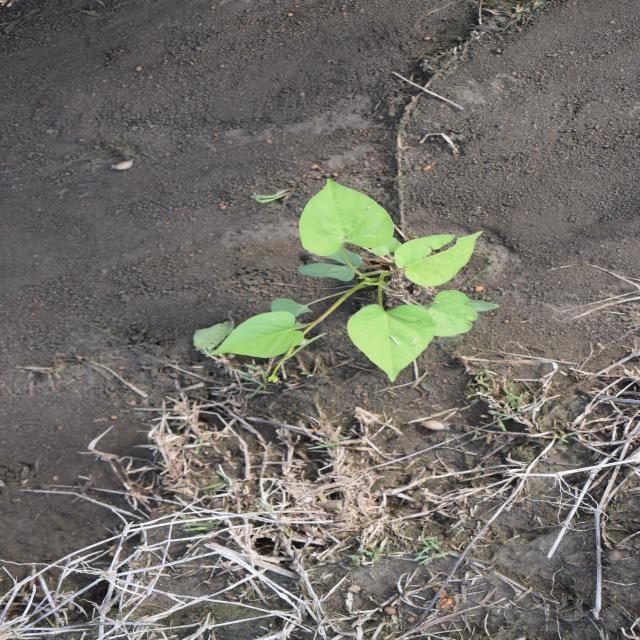MorningGlory: (205, 175, 503, 384)
